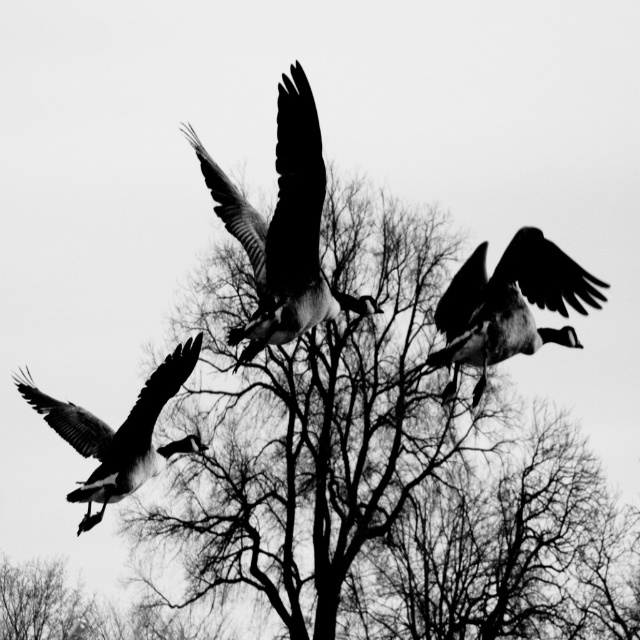Goose: (178, 60, 384, 375), (10, 332, 208, 535), (424, 224, 610, 409)
